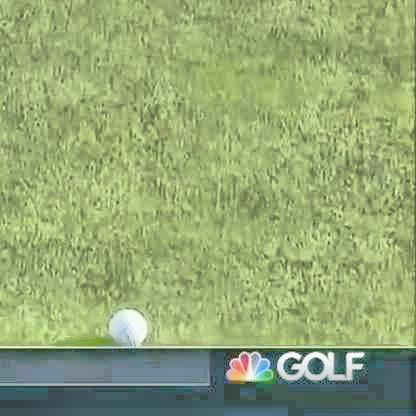golfball: (104, 309, 146, 345)
